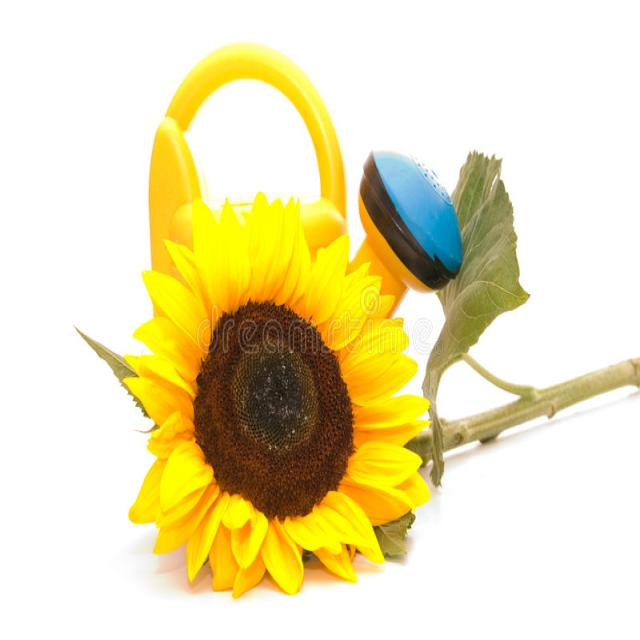sunflower: (102, 150, 440, 606)
